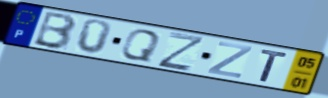0: (75, 18, 114, 55)
B: (30, 11, 79, 51)
Q: (118, 28, 163, 64)
T: (258, 48, 291, 84)
Z: (155, 30, 208, 73), (205, 40, 255, 80)
